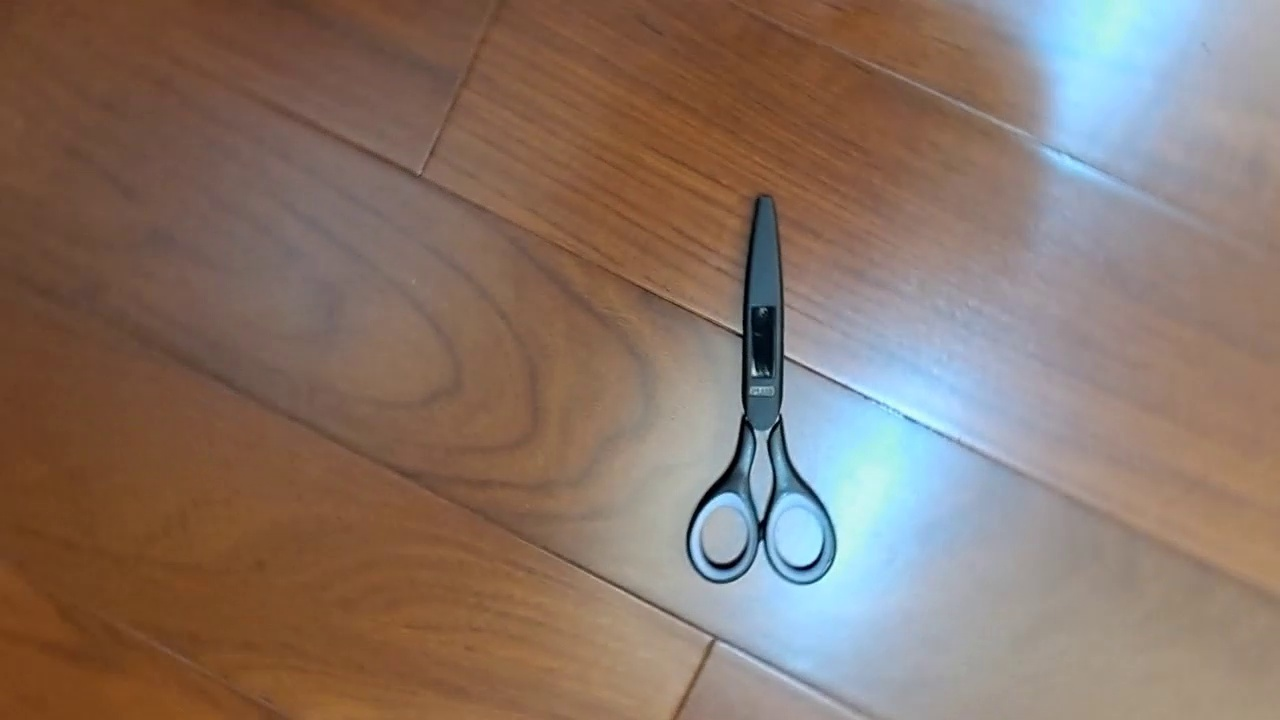scissors: (684, 193, 837, 585)
